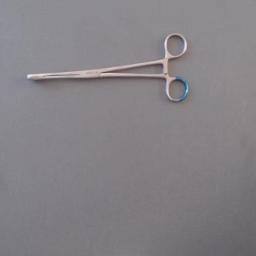Sponge Forceps: (20, 28, 194, 108)
